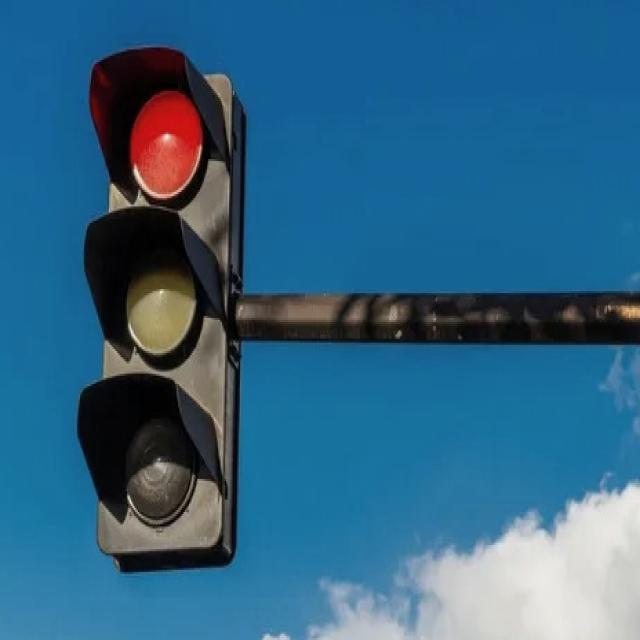kirmizi: (79, 46, 229, 550)
